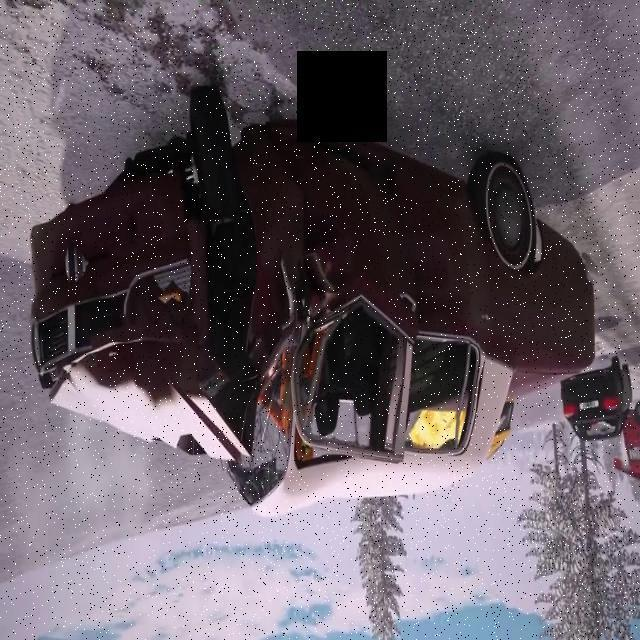vehicle: (19, 105, 607, 517)
